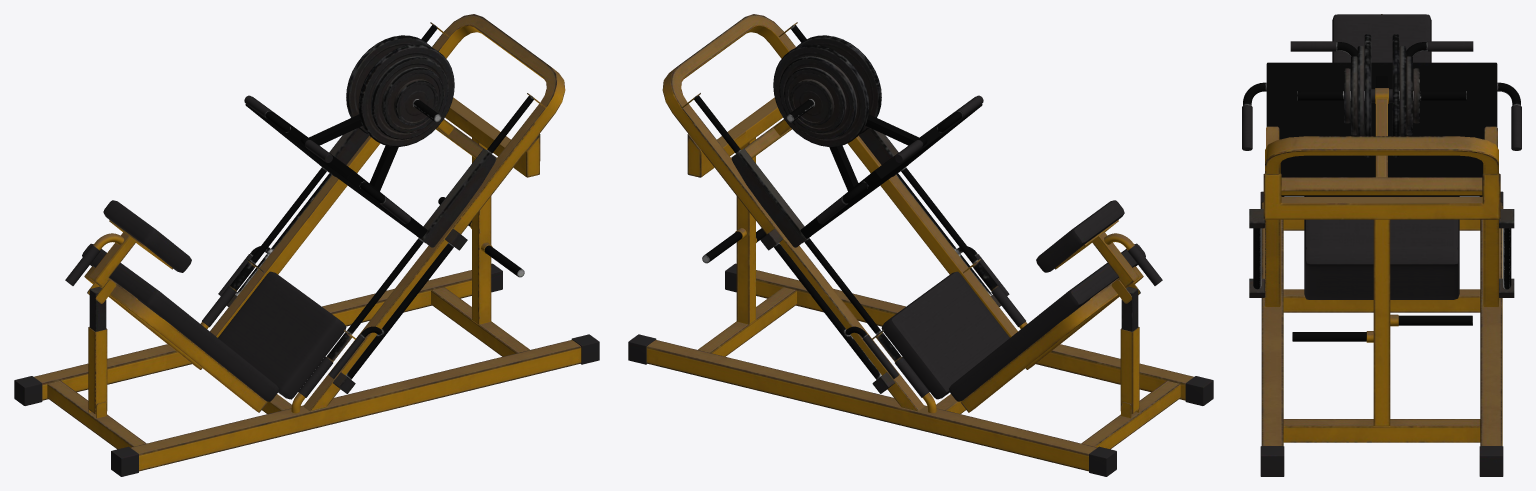
File: leg_press_machine.glb
3 renders of one model, left to right at view 1: azimuth 30°, elevation 25°; view 2: azimuth 150°, elevation 25°; view 3: azimuth 270°, elevation 25°, orthographic. The views are drawn at different scales.
Visible parts, largest first — view 1: Main_Frame, Seat, Base, Foot_Place, Bar_XL, Seat_Adjuster, Bars_Large, Bar_Medium, Bar_Small; view 2: Main_Frame, Seat, Base, Foot_Place, Bar_XL, Seat_Adjuster, Bars_Large, Bar_Medium, Bar_Small; view 3: Main_Frame, Foot_Place, Seat, Base, Bar_XL, Bars_Large, Bar_Medium, Bar_Small.
Part boxes in pixels (bbox=[...]): Main_Frame: bbox=[14, 14, 599, 476]; Seat: bbox=[82, 200, 346, 401]; Base: bbox=[200, 22, 545, 413]; Foot_Place: bbox=[244, 95, 441, 238]; Bar_XL: bbox=[346, 35, 454, 146]; Seat_Adjuster: bbox=[65, 232, 136, 331]; Bars_Large: bbox=[370, 56, 448, 139]; Bar_Medium: bbox=[381, 67, 443, 133]; Bar_Small: bbox=[393, 79, 437, 125]; Main_Frame: bbox=[628, 14, 1213, 476]; Seat: bbox=[881, 200, 1145, 401]; Base: bbox=[682, 22, 1027, 413]; Foot_Place: bbox=[786, 95, 983, 238]; Bar_XL: bbox=[773, 35, 881, 146]; Seat_Adjuster: bbox=[1092, 232, 1162, 331]; Bars_Large: bbox=[779, 56, 857, 139]; Bar_Medium: bbox=[784, 67, 846, 133]; Bar_Small: bbox=[790, 79, 834, 125]; Main_Frame: bbox=[1260, 136, 1503, 476]; Foot_Place: bbox=[1242, 41, 1521, 196]; Seat: bbox=[1304, 14, 1459, 299]; Base: bbox=[1249, 111, 1514, 297]; Bar_XL: bbox=[1364, 34, 1399, 157]; Bars_Large: bbox=[1357, 46, 1406, 136]; Bar_Medium: bbox=[1351, 56, 1412, 135]; Bar_Small: bbox=[1344, 68, 1419, 123].
Bounding box in the file's own units: 2.7 × 1.7 × 1.2.
1 material, 1 textured.
